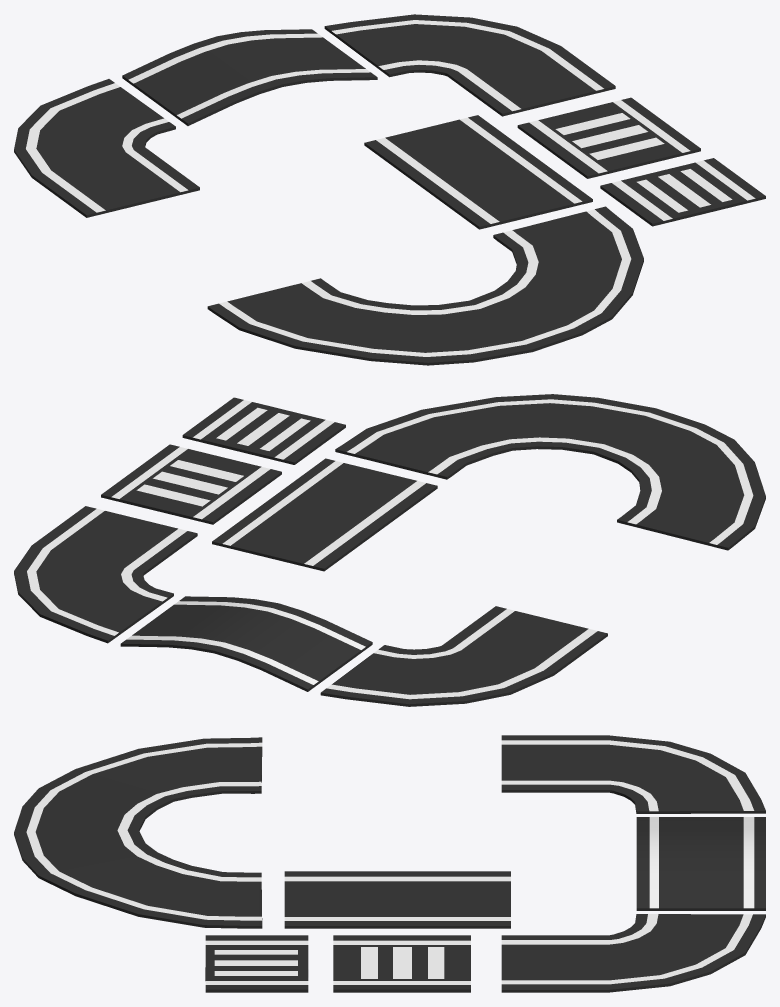
Rendered from road.fbx.
3 renders of one model, top to bottom at view 1: azimuth 30°, elevation 25°; view 2: azimuth 150°, elevation 25°; view 3: azimuth 270°, elevation 25°, orthographic.
Parts seen in each view (by area): view 1: pCube4, pCube5, pCube2, pCube6, pCube3, pCube7, pCube8; view 2: pCube4, pCube2, pCube5, pCube6, pCube3, pCube7, pCube8; view 3: pCube4, pCube2, pCube5, pCube6, pCube3, pCube7, pCube8.
Part boxes in pixels (box(x1,y1,x2,y2)): pCube4: box(207, 206, 643, 365); pCube5: box(324, 14, 615, 116); pCube2: box(14, 79, 199, 217); pCube6: box(364, 115, 592, 229); pCube3: box(122, 29, 377, 125); pCube7: box(517, 97, 700, 178); pCube8: box(600, 158, 765, 226); pCube4: box(335, 394, 765, 550); pCube2: box(320, 606, 607, 706); pCube5: box(14, 506, 197, 643); pCube6: box(212, 458, 437, 571); pCube3: box(120, 596, 372, 691); pCube7: box(101, 444, 281, 524); pCube8: box(182, 397, 345, 464); pCube4: box(14, 737, 262, 928); pCube2: box(501, 735, 765, 813); pCube5: box(501, 914, 765, 992); pCube6: box(284, 871, 510, 928); pCube3: box(636, 817, 765, 910); pCube7: box(333, 935, 470, 992); pCube8: box(205, 935, 308, 992).
Bounding box in the file's own units: 3295 × 127 × 4113.
